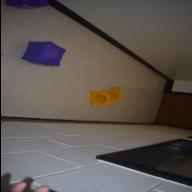cone: (100, 86, 121, 102), (89, 92, 112, 106)
cube: (20, 41, 66, 67), (5, 0, 48, 10)
